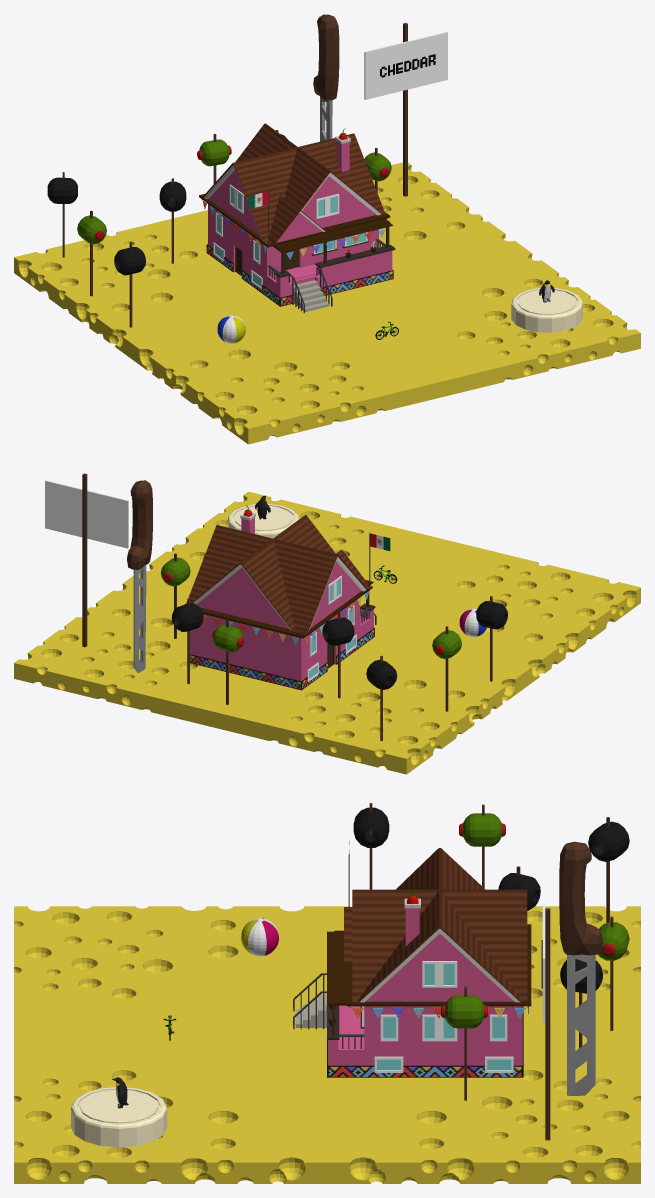
The picture shows the model from 3 angles, top to bottom: view 1: azimuth 30°, elevation 25°; view 2: azimuth 150°, elevation 25°; view 3: azimuth 270°, elevation 25°; orthographic projection. The views are drawn at different scales.
Visible parts, largest first — view 1: Cube.022, Cube.1005, Cube.023, Cylinder.016, Cube.024, Sphere.017, Sphere.016, Sphere.020, Sphere.018, Sphere.022, OBJRANDOM_BEACHBALL, Sphere.019; view 2: Cube.022, Cube.1005, Cube.023, Cube.024, Cylinder.016, Sphere.017, Sphere.020, Sphere.021, Sphere.016, Sphere.018, Sphere.022, Sphere.019 (+1 smaller); view 3: Cube.022, Cube.1005, Cube.024, Cylinder.016, Cube.023, Sphere.019, Sphere.016, Sphere.018, Sphere.017, Sphere.022, OBJRANDOM_BEACHBALL, Sphere.020 (+1 smaller).
Part boxes in pixels (x1,y1,x2,y2): Cube.022: (14,162,640,444); Cube.1005: (199,123,395,313); Cube.023: (364,23,447,196); Cylinder.016: (511,287,582,332); Cube.024: (313,14,339,141); Sphere.017: (114,242,145,327); Sphere.016: (47,172,77,257); Sphere.020: (159,178,186,263); Sphere.018: (77,210,106,296); Sphere.022: (197,134,231,183); OBJRANDOM_BEACHBALL: (217,315,245,343); Sphere.019: (364,148,391,192); Cube.022: (14,491,640,774); Cube.1005: (184,505,390,690); Cube.023: (45,473,128,647); Cube.024: (127,480,152,672); Cylinder.016: (228,503,298,538); Sphere.017: (476,596,507,681); Sphere.020: (322,612,354,698); Sphere.021: (171,598,203,683); Sphere.016: (366,655,397,741); Sphere.018: (432,626,461,711); Sphere.022: (212,619,244,704); Sphere.019: (160,553,190,638); Cube.022: (14,906,640,1183); Cube.1005: (293,841,531,1077); Cube.024: (559,841,602,1095); Cylinder.016: (71,1087,167,1147); Cube.023: (541,904,550,1140); Sphere.019: (441,986,487,1100); Sphere.016: (588,817,629,922); Sphere.018: (459,804,505,888); Sphere.017: (353,803,389,889); Sphere.022: (598,916,629,1030); OBJRANDOM_BEACHBALL: (241,918,278,956); Sphere.020: (498,866,540,910).
Bounding box in the file's own units: 3917 × 2007 × 4000.
70 materials, 5 textured.
